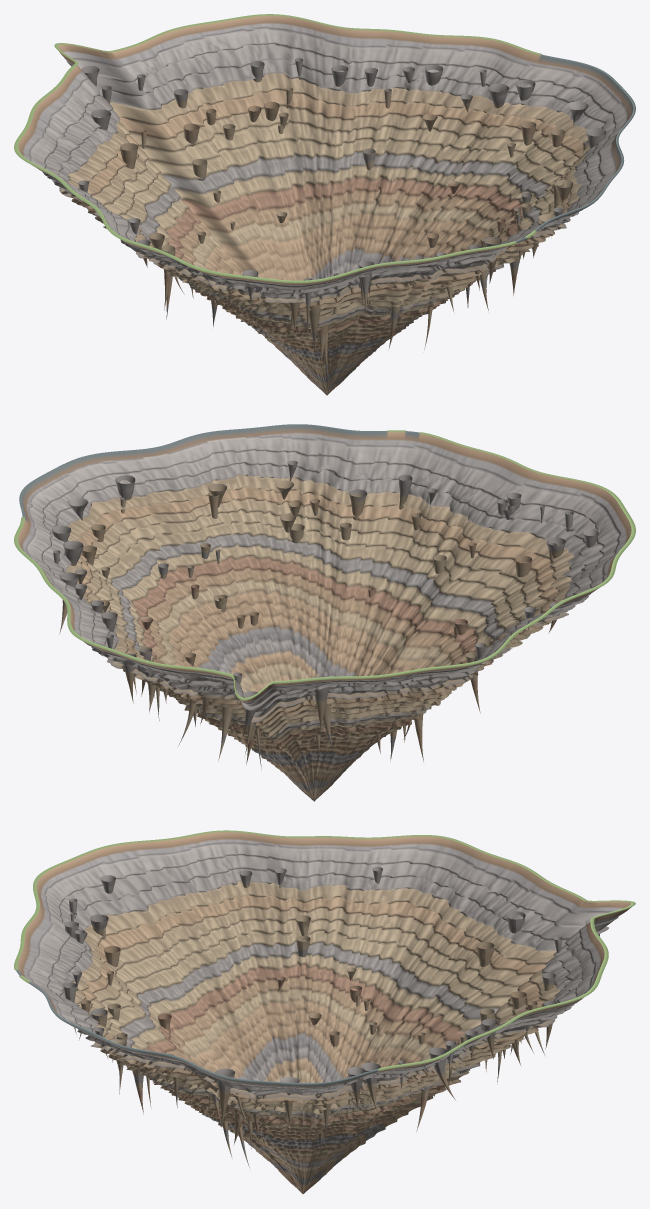
File: island.glb
3 views of the same model, one above another, from view 1: azimuth 30°, elevation 25°; view 2: azimuth 150°, elevation 25°; view 3: azimuth 270°, elevation 25° (orthographic). The views are drawn at different scales.
Visible parts, largest first — view 1: ISLAND_body; view 2: ISLAND_body; view 3: ISLAND_body.
Part boxes in pixels (x1,y1,x2,y2): ISLAND_body: (14, 14, 635, 395); ISLAND_body: (14, 424, 635, 801); ISLAND_body: (14, 830, 635, 1193).
Size of the model in its own units: 5903 by 2649 by 6104.
